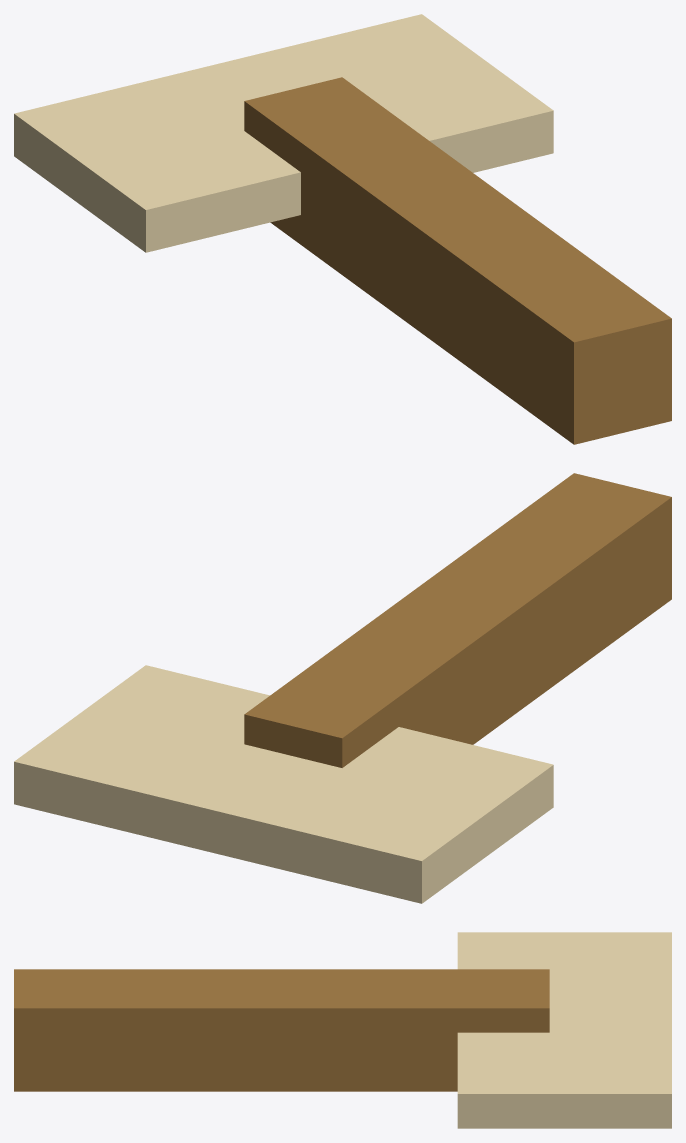
Rendered from Sign.glb.
3 renders of one model, top to bottom at view 1: azimuth 30°, elevation 25°; view 2: azimuth 150°, elevation 25°; view 3: azimuth 270°, elevation 25°, orthographic. The views are drawn at different scales.
Visible parts, largest first — view 1: Sign_post, Sign_panel; view 2: Sign_panel, Sign_post; view 3: Sign_post, Sign_panel.
Boxes of the visible parts, bbox=[...] form: Sign_post: bbox=[244, 77, 671, 444]; Sign_panel: bbox=[14, 14, 553, 252]; Sign_panel: bbox=[14, 665, 553, 903]; Sign_post: bbox=[244, 473, 671, 767]; Sign_post: bbox=[14, 969, 549, 1091]; Sign_panel: bbox=[457, 932, 671, 1128].
Size of the model in its own units: 0.5 by 0.12 by 0.86.
